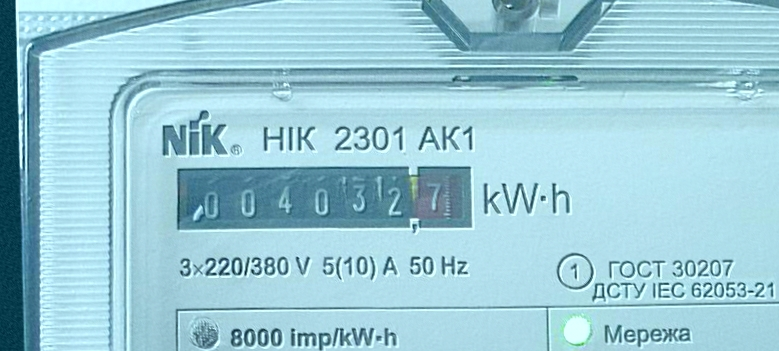0: (235, 185, 256, 218), (199, 186, 219, 219), (309, 183, 329, 216)
2: (383, 182, 402, 217)
3: (347, 180, 366, 212)
4: (272, 181, 293, 217)
7: (424, 178, 442, 212)
screen: (163, 151, 480, 246)
